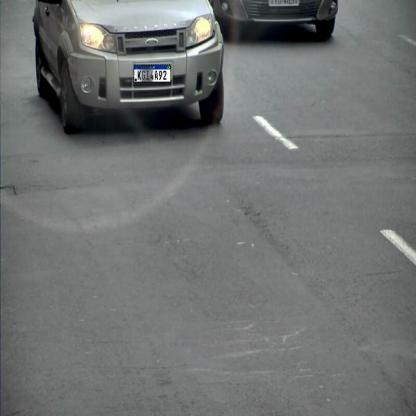PlacaM: (134, 64, 171, 82)
